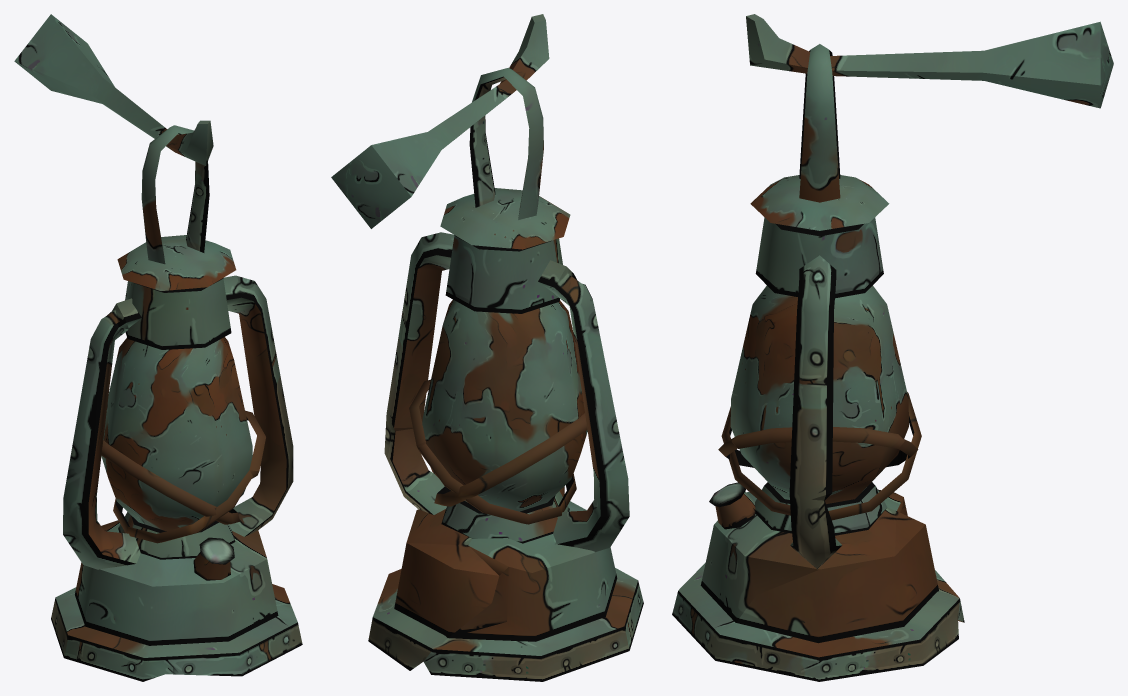
The model's file is Lantern_01.fbx.
3 renders of one model, left to right at view 1: azimuth 30°, elevation 25°; view 2: azimuth 150°, elevation 25°; view 3: azimuth 270°, elevation 25°, orthographic. The views are drawn at different scales.
Parts seen in each view (by area): view 1: OilLantern_A, Glass, Hook_A; view 2: OilLantern_A, Glass, Hook_A; view 3: OilLantern_A, Glass, Hook_A.
Boxes of the visible parts, bbox=[...] form: OilLantern_A: bbox=[51, 125, 302, 681]; Glass: bbox=[101, 337, 252, 530]; Hook_A: bbox=[14, 14, 213, 165]; OilLantern_A: bbox=[368, 67, 643, 681]; Glass: bbox=[422, 299, 587, 511]; Hook_A: bbox=[331, 14, 549, 228]; OilLantern_A: bbox=[672, 44, 964, 681]; Glass: bbox=[730, 285, 908, 503]; Hook_A: bbox=[746, 14, 1113, 108].
Bounding box in the file's own units: 0.256 × 0.5793 × 0.3817.
